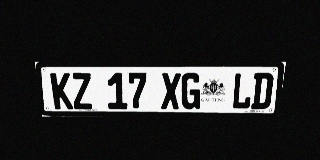1: (106, 73, 127, 109)
7: (127, 73, 147, 109)
D: (251, 73, 274, 109)
G: (181, 73, 201, 109)
K: (50, 73, 73, 109)
L: (231, 73, 254, 109)
X: (161, 73, 181, 109)
Z: (71, 73, 93, 109)
